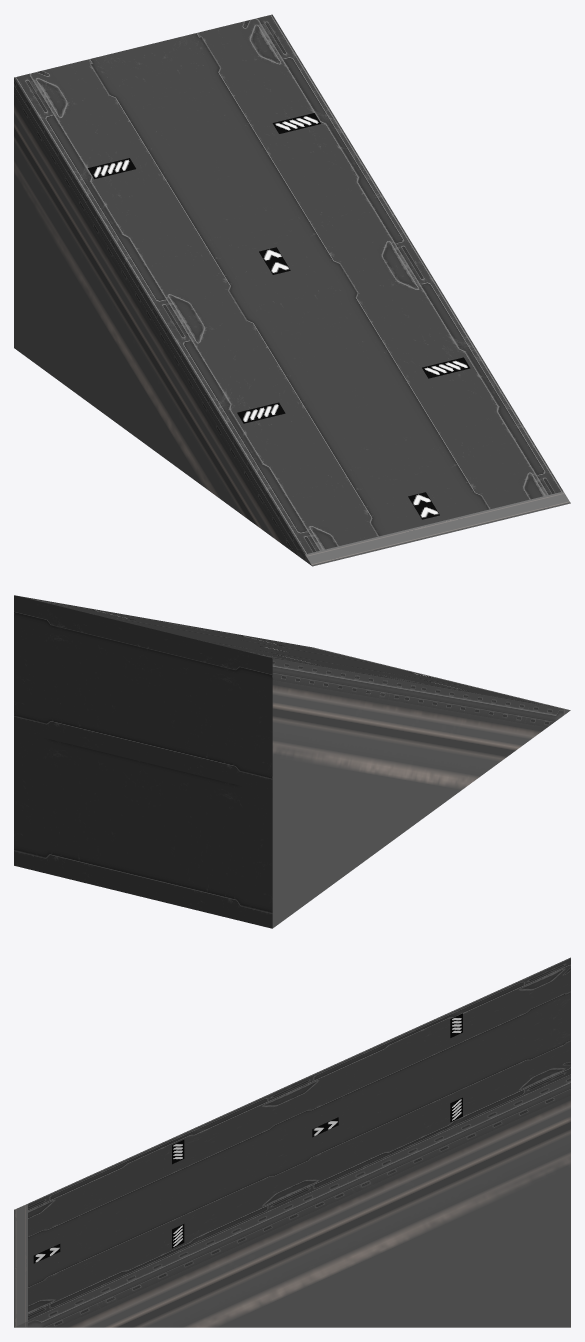
Rendered from S_PlatformRamp_4.gltf.
3 views of the same model, one above another, from view 1: azimuth 30°, elevation 25°; view 2: azimuth 150°, elevation 25°; view 3: azimuth 270°, elevation 25° (orthographic). The views are drawn at different scales.
Parts seen in each view (by area): view 1: Cube_057-col; view 2: Cube_057-col; view 3: Cube_057-col.
Part boxes in pixels (left/top/right/bottom): Cube_057-col: left=14, top=14, right=570, bottom=566; Cube_057-col: left=14, top=595, right=570, bottom=928; Cube_057-col: left=14, top=957, right=570, bottom=1327.
Size of the model in its own units: 2 by 2 by 4.
Materials: 3 (3 with a texture image).
